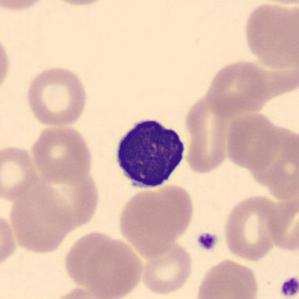Lymphocyte: (108, 111, 192, 194)
Platelets: (194, 231, 219, 252), (278, 275, 299, 299)
RBC: (115, 186, 186, 258), (6, 183, 73, 255), (182, 93, 239, 170), (23, 63, 90, 128), (61, 229, 126, 295), (31, 164, 100, 226), (29, 121, 95, 184), (222, 193, 281, 262), (82, 237, 146, 299), (242, 0, 298, 70), (204, 57, 268, 117), (223, 110, 282, 171), (140, 182, 195, 240), (140, 238, 195, 296), (251, 129, 299, 193), (194, 257, 261, 299), (0, 142, 41, 202), (265, 193, 298, 254), (0, 210, 18, 273), (0, 30, 13, 96), (46, 286, 110, 299), (0, 0, 52, 13), (42, 0, 116, 7), (245, 0, 299, 6)
